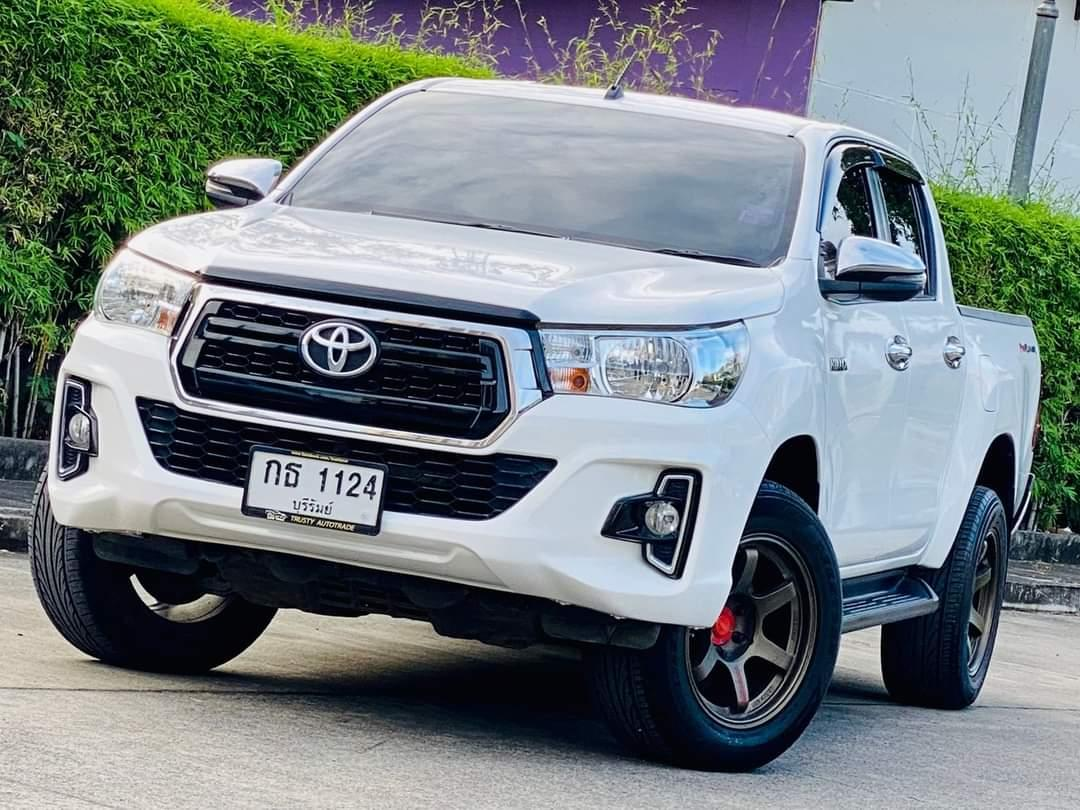license-plate: (240, 438, 394, 538)
